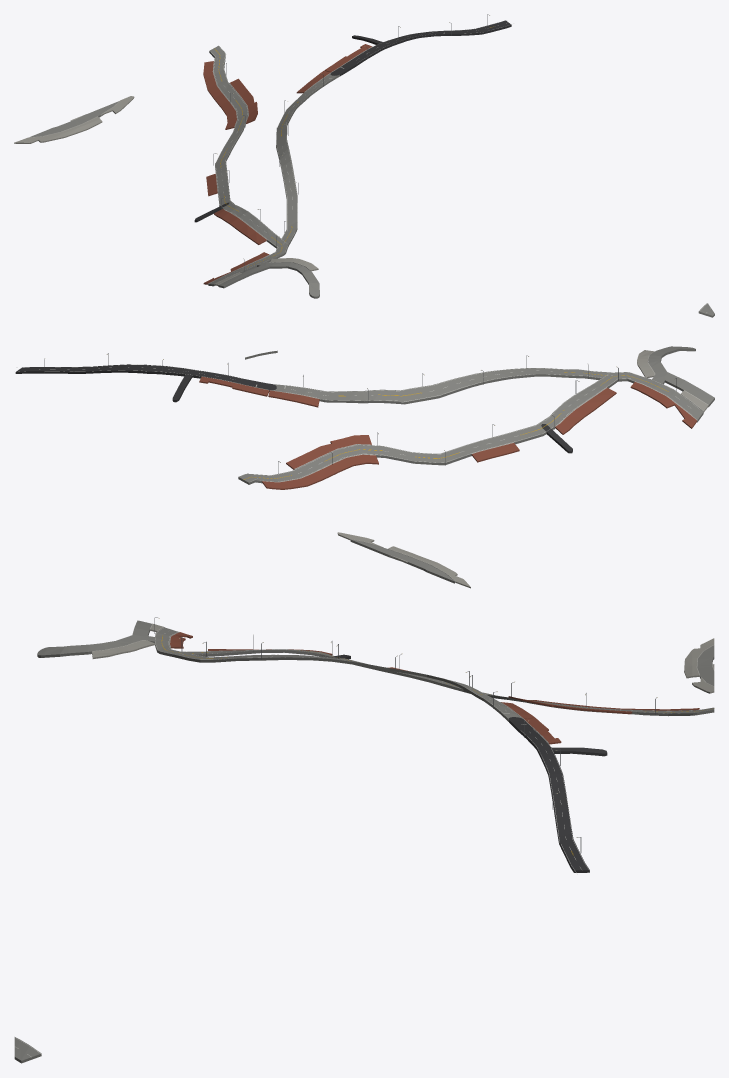
The model's file is 17-109454-59468.9d4bedf2.glb.
3 views of the same model, one above another, from view 1: azimuth 30°, elevation 25°; view 2: azimuth 150°, elevation 25°; view 3: azimuth 270°, elevation 25° (orthographic). The views are drawn at different scales.
Bounding box in the file's own units: 296 × 108 × 292.
